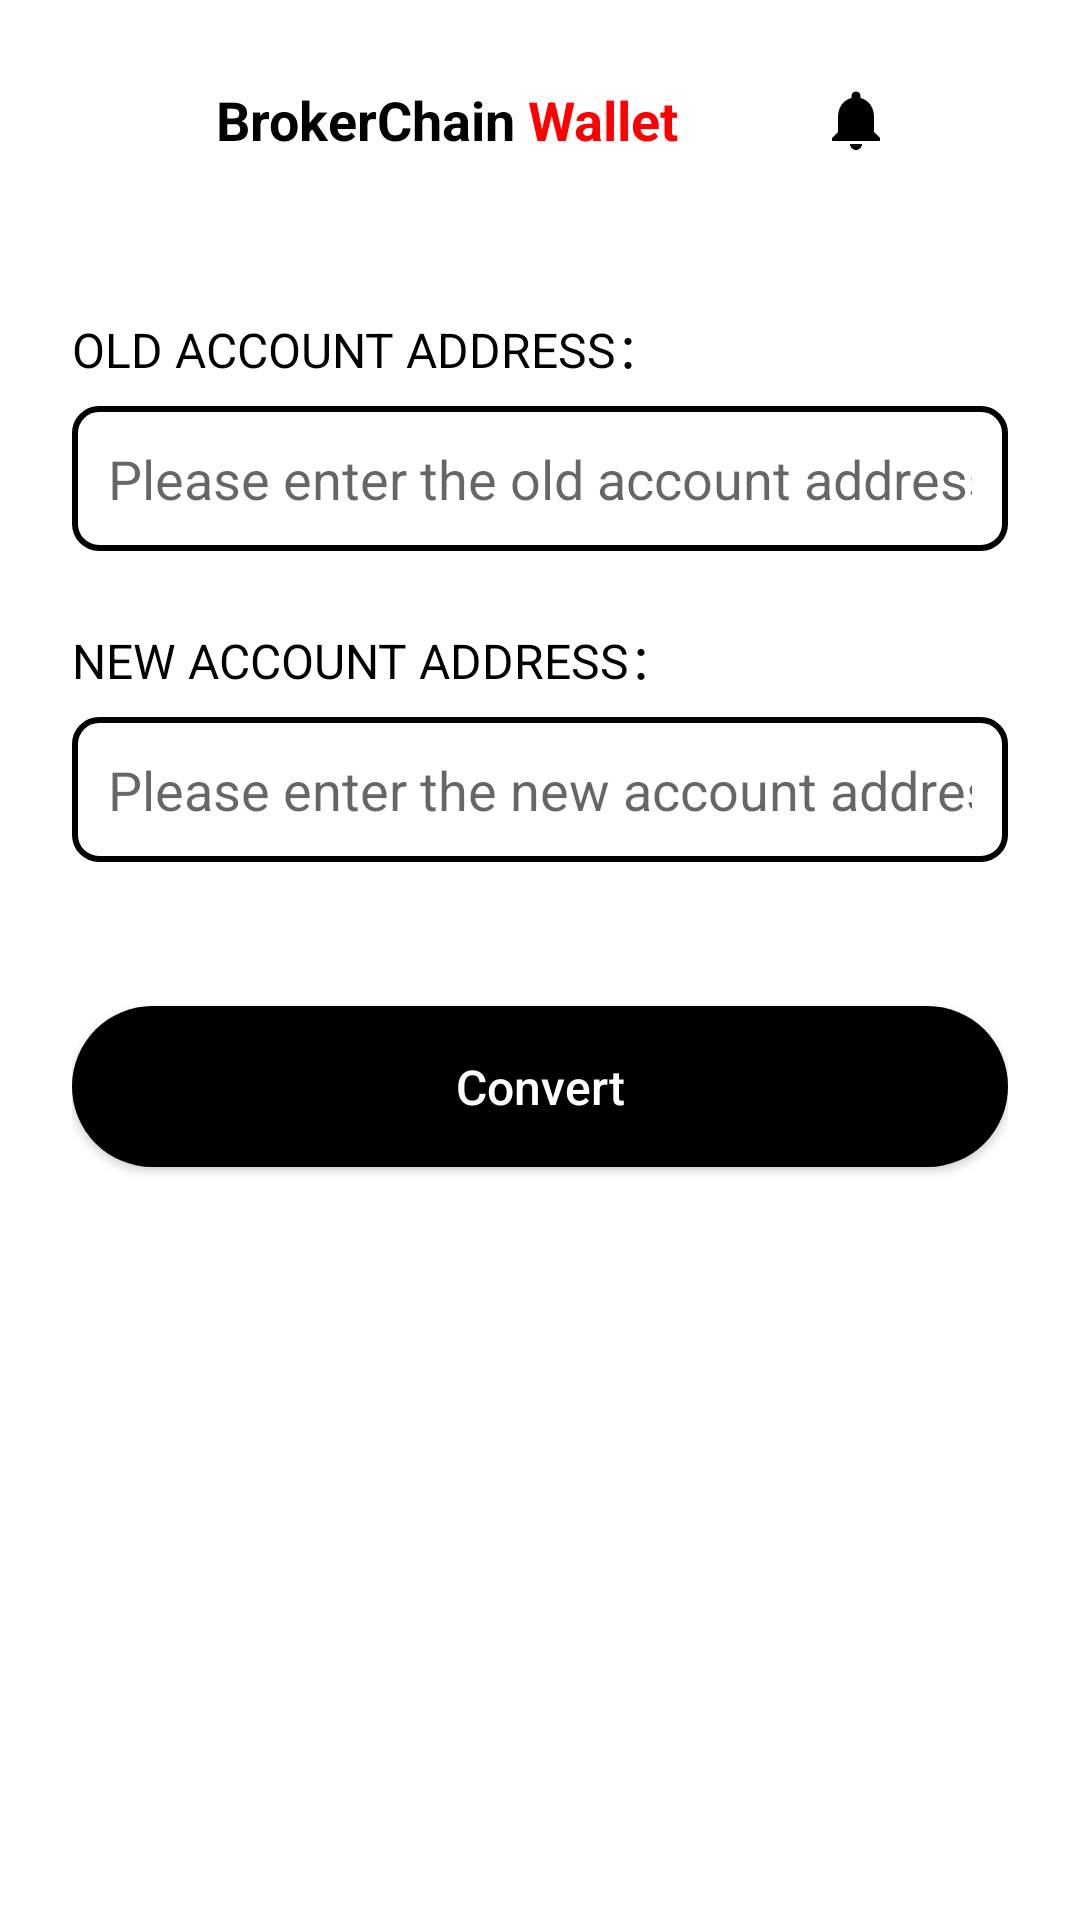

Where to tap for icons on this 1080px x 1920px app screen, as [x,y]:
Notifications: [856,120]
